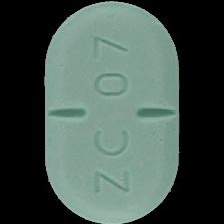61919-133: (0, 0, 224, 224)
